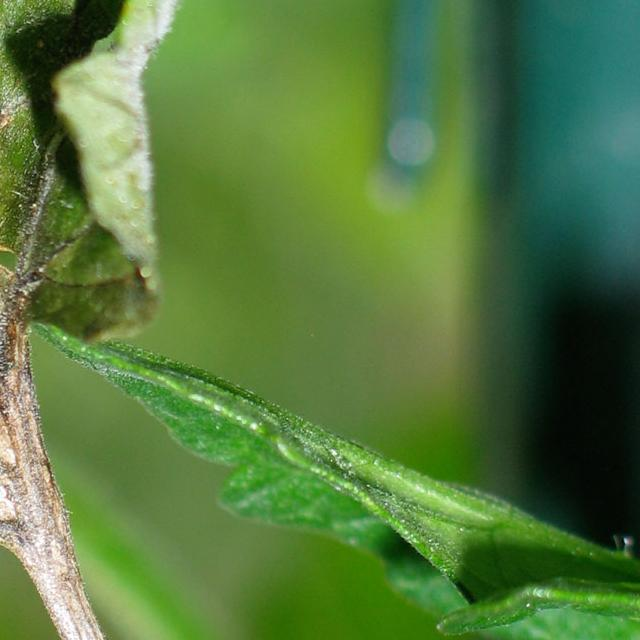Tomato leaf late blight: (0, 0, 223, 640)
